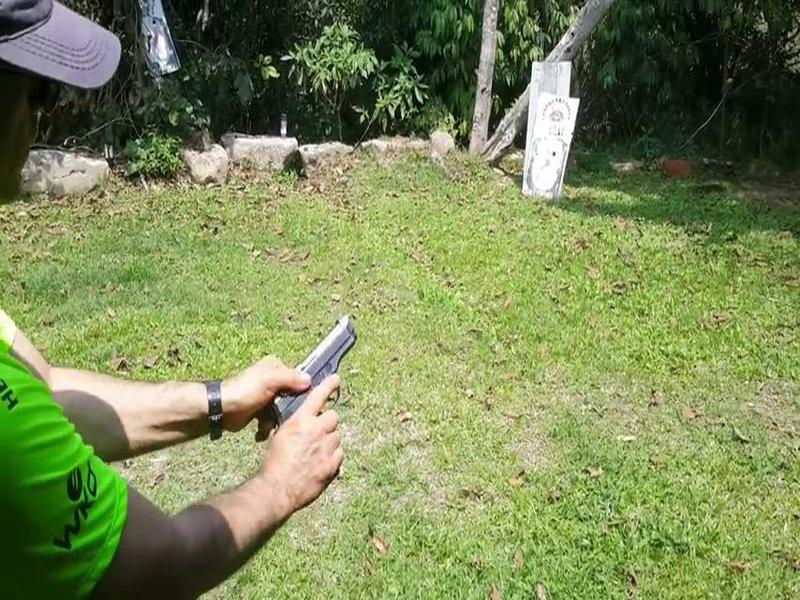Pistola: (260, 304, 371, 479)
